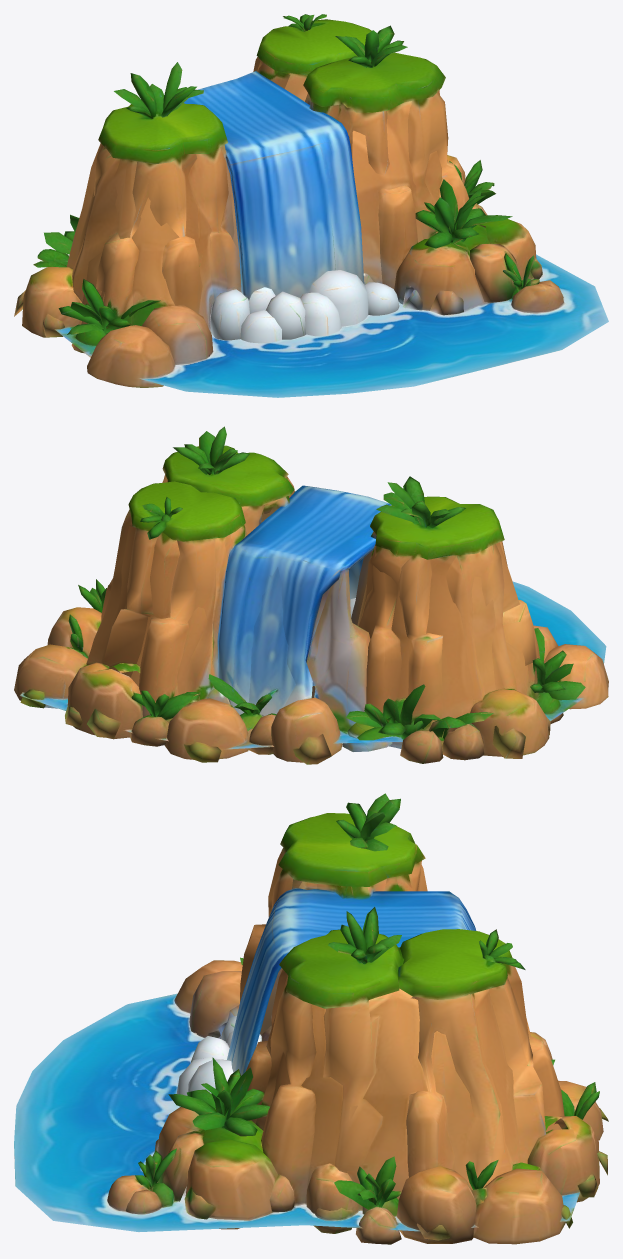
The model's file is s2_r2c1_narrow_waterfall_cliff.glb.
3 views of the same model, one above another, from view 1: azimuth 30°, elevation 25°; view 2: azimuth 150°, elevation 25°; view 3: azimuth 270°, elevation 25° (orthographic). The views are drawn at different scales.
Size of the model in its own units: 1 by 0.4889 by 0.9902.
Materials: 1 (1 with a texture image).
